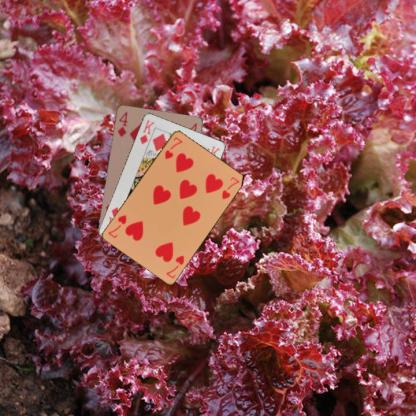4d: (115, 109, 129, 138)
7h: (164, 252, 186, 280), (162, 134, 184, 160)
Kd: (137, 117, 155, 145)
